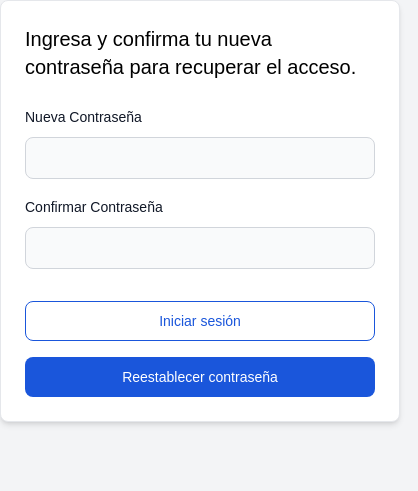
Test case: ResetPasswordCard › Form Validation › Given a user entering a password with at least 16 characters lower case and 1 upper case, show error validation to enter 1 number character
Type "alotofcharactersonpasswordA" into the password field with test id "password".
click(200, 158); type("alotofcharactersonpasswordA")  # box [25, 137, 375, 179]
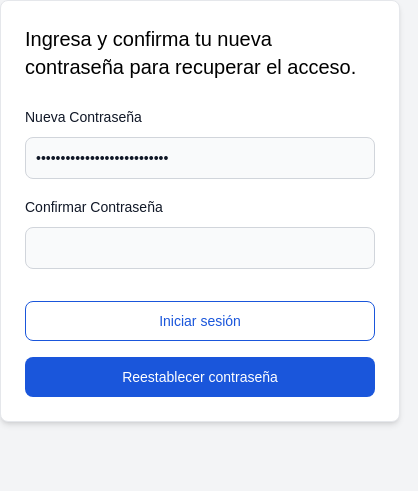
Click the button "Reestablecer contraseña".
click(200, 377)  # box [25, 357, 375, 397]
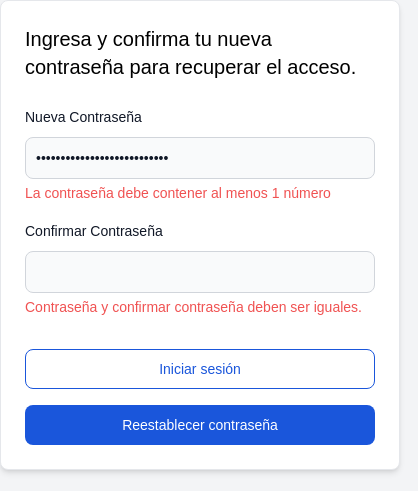
Result: the text "La contraseña debe contener al menos 1 número" is shown at [25, 183, 375, 203]
